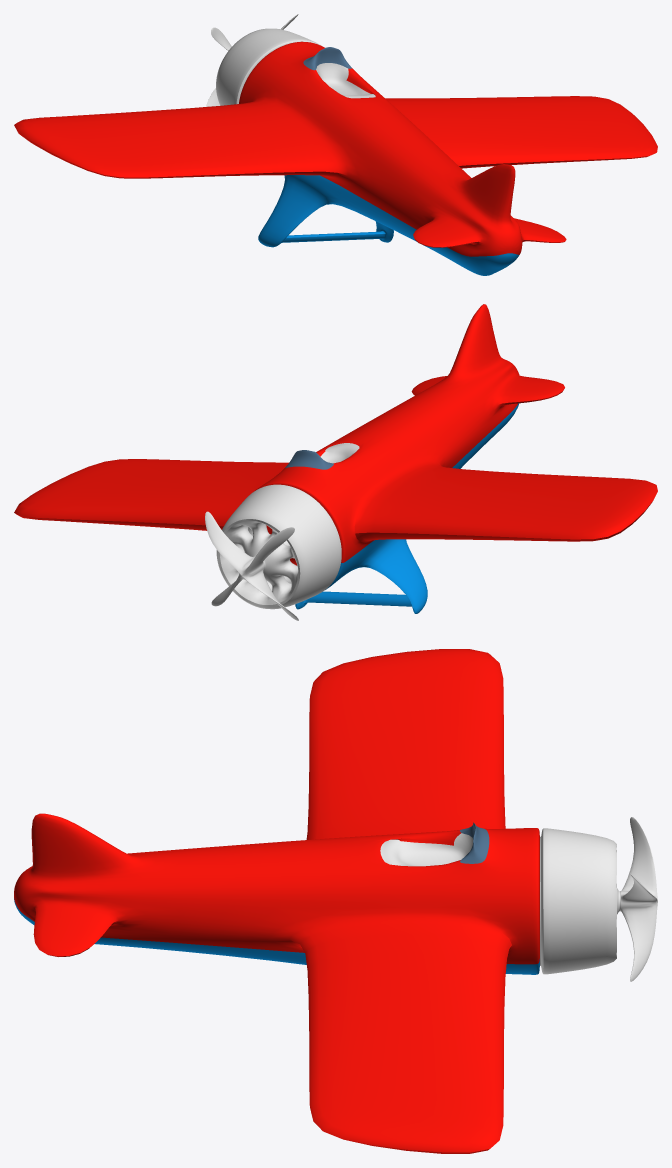
3 renders of one model, top to bottom at view 1: azimuth 30°, elevation 25°; view 2: azimuth 150°, elevation 25°; view 3: azimuth 270°, elevation 25°, orthographic. The views are drawn at different scales.
Visible parts, largest first — view 1: ToyPlane_SUB; view 2: ToyPlane_SUB; view 3: ToyPlane_SUB.
Boxes of the visible parts, x1,y1,x2,y2 form: ToyPlane_SUB: (14,14,657,275); ToyPlane_SUB: (14,304,657,620); ToyPlane_SUB: (14,649,657,1153).
Bounding box in the file's own units: 21.48 × 6.61 × 16.49.
